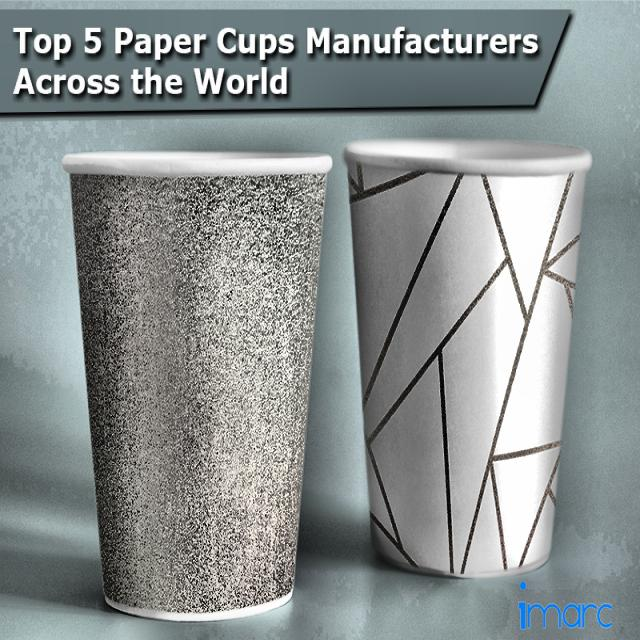Cup: (58, 141, 318, 630), (337, 121, 577, 584)
